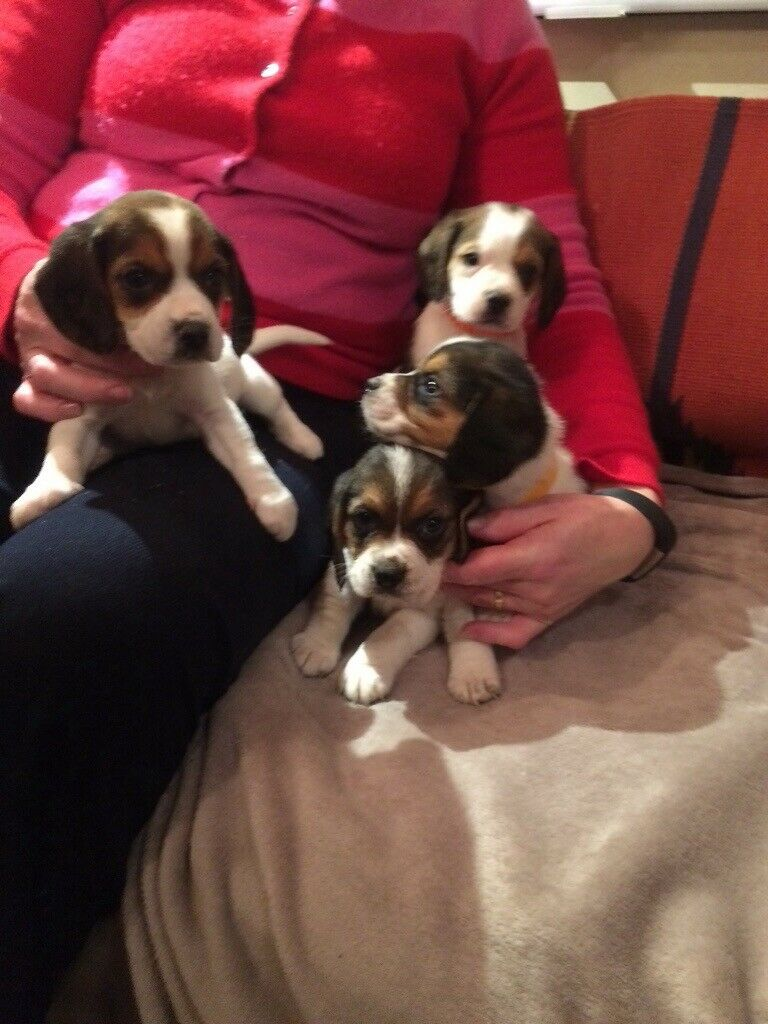dog: (6, 174, 325, 546), (292, 445, 506, 716), (385, 192, 568, 371)
